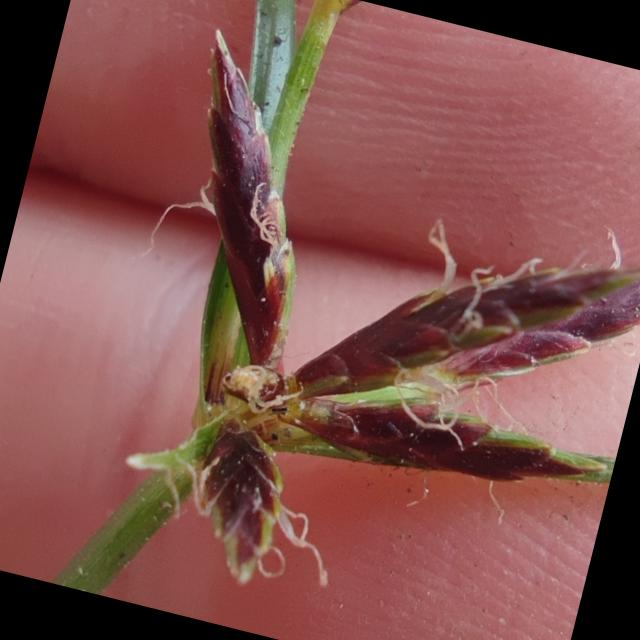cyperus: (58, 12, 640, 640)
